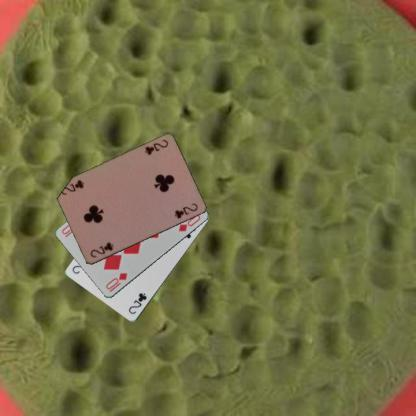10d: (102, 271, 128, 292)
2c: (141, 137, 170, 158), (126, 290, 148, 316), (88, 240, 115, 259)
